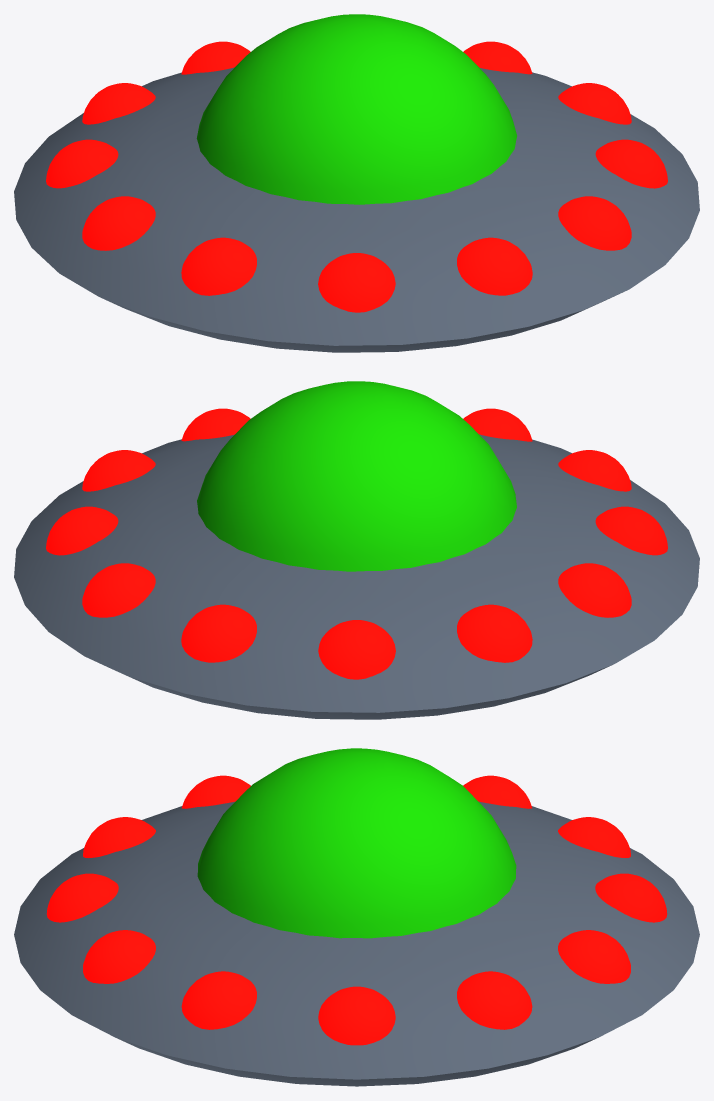
The model's file is UFO.glb.
3 renders of one model, top to bottom at view 1: azimuth 30°, elevation 25°; view 2: azimuth 150°, elevation 25°; view 3: azimuth 270°, elevation 25°, orthographic.
Visible parts, largest first — view 1: UFOCenter, UFODome; view 2: UFOCenter, UFODome; view 3: UFOCenter, UFODome.
Part boxes in pixels (x1,y1,x2,y2): UFOCenter: [14, 41, 699, 352]; UFODome: [196, 14, 516, 204]; UFOCenter: [14, 408, 699, 719]; UFODome: [197, 381, 516, 571]; UFOCenter: [14, 775, 699, 1086]; UFODome: [197, 748, 516, 938].
Size of the model in its own units: 1.46 by 0.6288 by 1.46.
